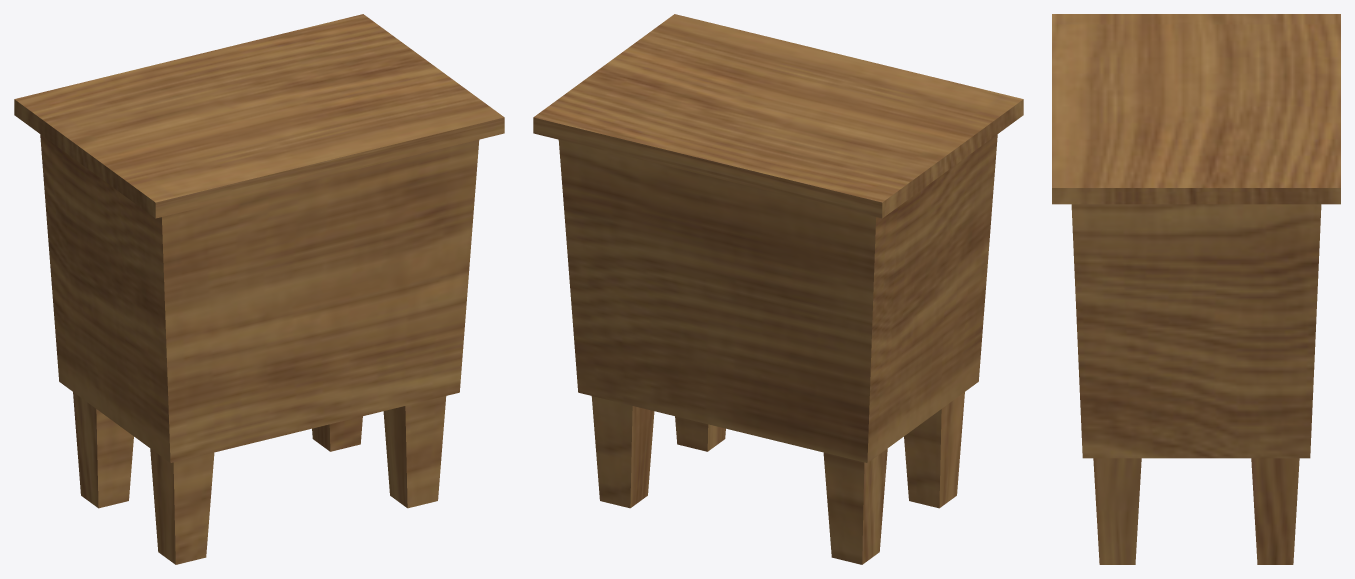
File: Nightstand.glb
3 views of the same model, side by side, from view 1: azimuth 30°, elevation 25°; view 2: azimuth 150°, elevation 25°; view 3: azimuth 270°, elevation 25° (orthographic). The views are drawn at different scales.
Visible parts, largest first — view 1: Cube; view 2: Cube; view 3: Cube.
Part boxes in pixels (x1,y1,x2,y2): Cube: (14, 14, 504, 564); Cube: (533, 14, 1023, 564); Cube: (1052, 14, 1340, 564).
Bounding box in the file's own units: 3.29 × 3.51 × 2.31.
Materials: 1 (1 with a texture image).
